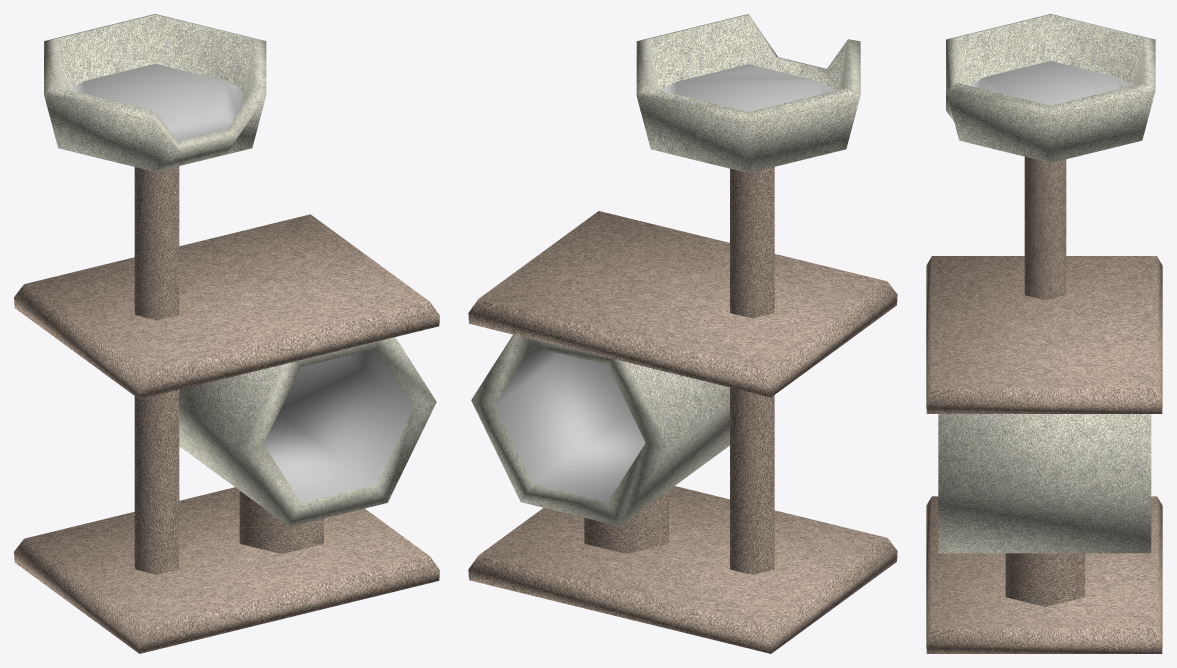
The model's file is Kitty_Tree_A_2.FBX.
The picture shows the model from 3 angles, left to right: view 1: azimuth 30°, elevation 25°; view 2: azimuth 150°, elevation 25°; view 3: azimuth 270°, elevation 25°; orthographic projection. The views are drawn at different scales.
Visible parts, largest first — view 1: Kitty Tree; view 2: Kitty Tree; view 3: Kitty Tree.
Boxes of the visible parts, x1=… form: Kitty Tree: x1=14, y1=14, x2=439, y2=653; Kitty Tree: x1=468, y1=14, x2=897, y2=653; Kitty Tree: x1=926, y1=14, x2=1162, y2=653.
Size of the model in its own units: 119 by 178 by 77.38.
